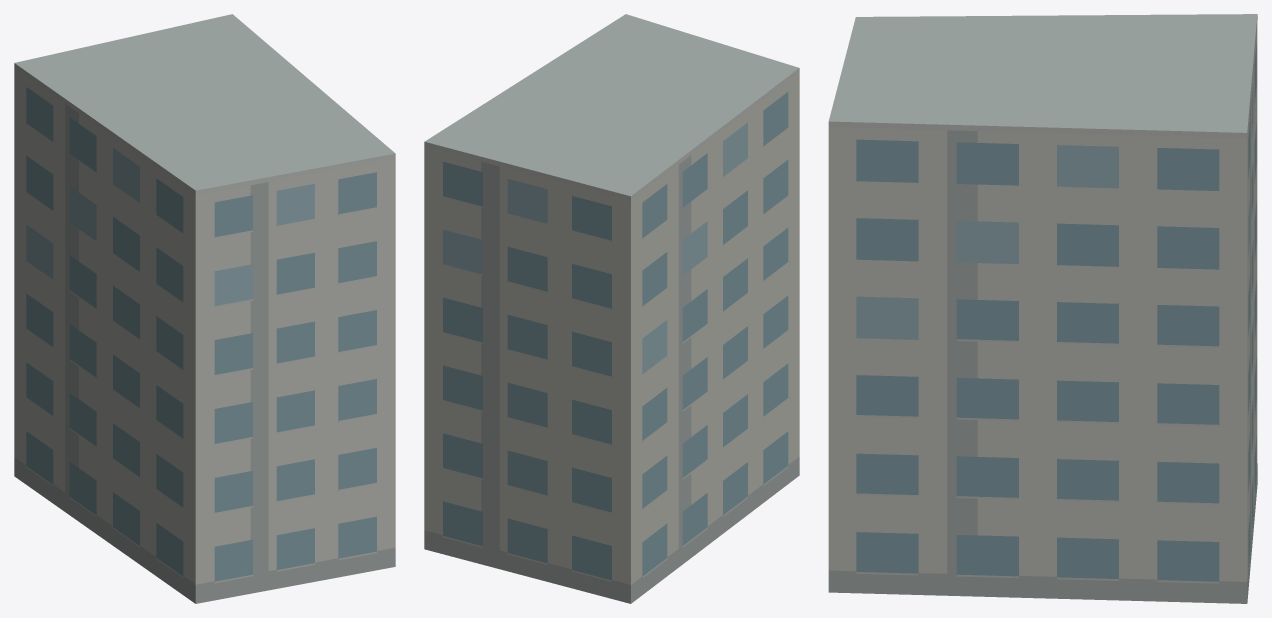
Rendered from survey-upis-32950074.glb.
3 views of the same model, side by side, from view 1: azimuth 30°, elevation 25°; view 2: azimuth 150°, elevation 25°; view 3: azimuth 270°, elevation 25° (orthographic). The views are drawn at different scales.
Visible parts, largest first — view 1: survey-upis-32950074.tmp; view 2: survey-upis-32950074.tmp; view 3: survey-upis-32950074.tmp.
Boxes of the visible parts, x1=… form: survey-upis-32950074.tmp: x1=14, y1=14, x2=395, y2=603; survey-upis-32950074.tmp: x1=424, y1=14, x2=799, y2=603; survey-upis-32950074.tmp: x1=828, y1=14, x2=1257, y2=603.
Size of the model in its own units: 11.16 by 20.6 by 17.01.
